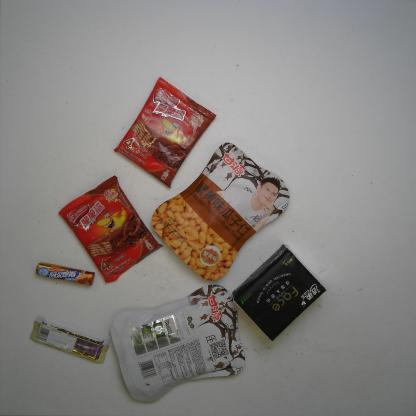Candy: (34, 260, 96, 287)
Chocolate: (27, 312, 114, 366)
Dessert: (112, 74, 218, 190), (57, 174, 165, 284)
Dried Fruit: (150, 140, 291, 283), (107, 282, 249, 406)
Tissue: (230, 241, 329, 344)
